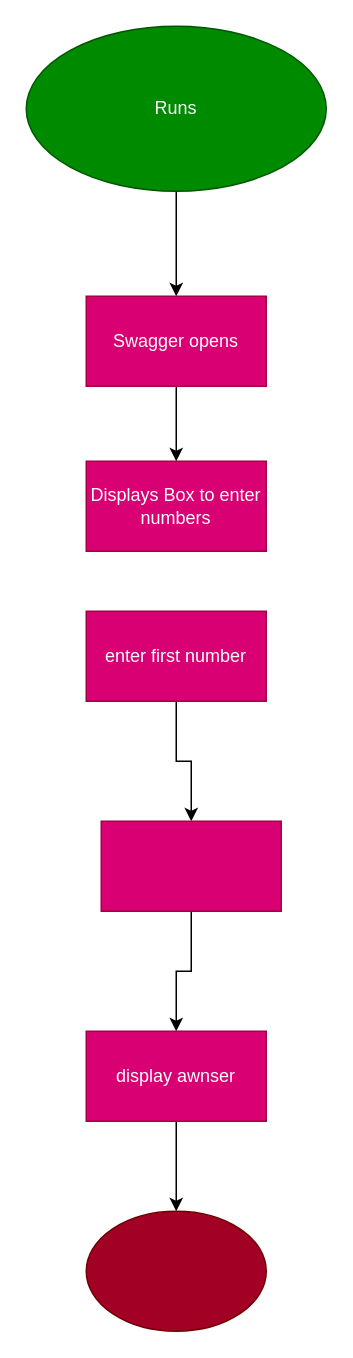
Image size: 353x1358. Some labels were removed from this diagram. Here are the shapes that lost their labels. From the top down, the centre of each, then its label:
At point 190,865: "enter second number".
At point 175,1270: "End".
